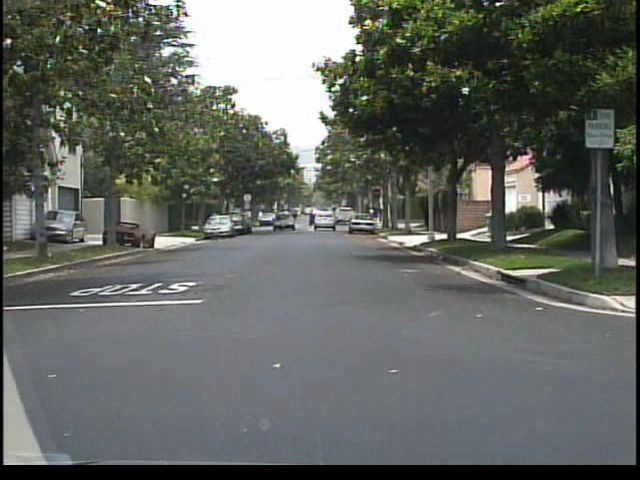person: (211, 206, 224, 231)
